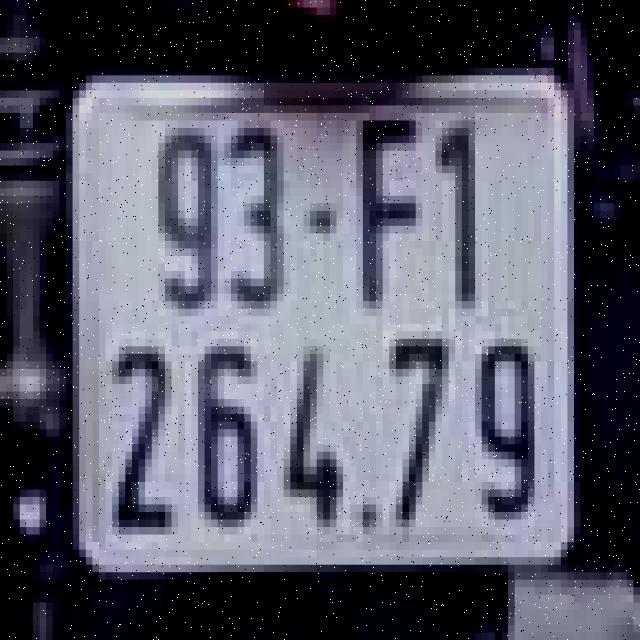1: (432, 113, 492, 316)
2: (89, 331, 182, 527)
3: (221, 106, 294, 316)
4: (280, 331, 346, 557)
6: (178, 323, 271, 520)
7: (373, 316, 465, 542)
9: (465, 335, 544, 546), (148, 124, 228, 320)
F: (343, 101, 422, 312)
